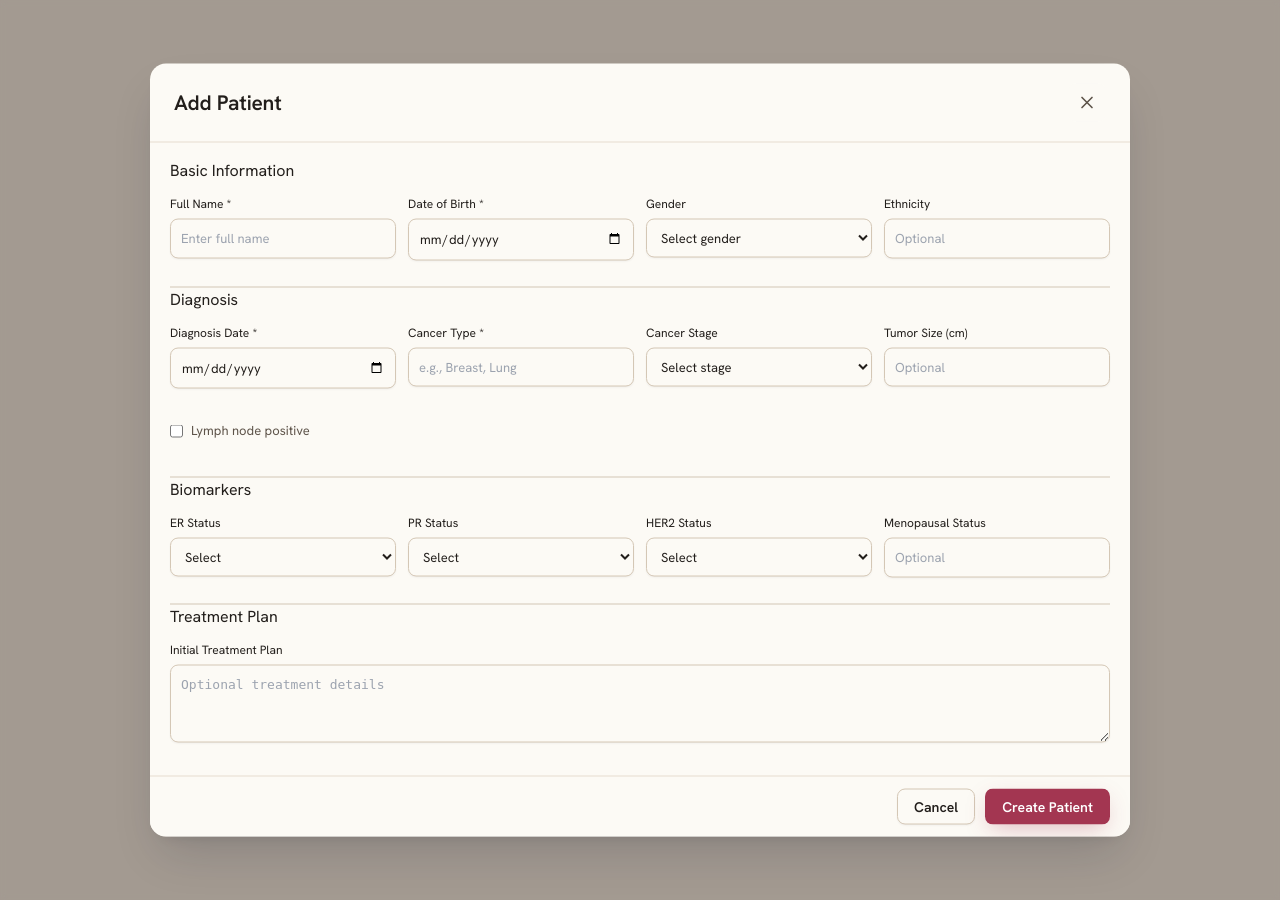
Test: AddPatientDialog › should display error message when submission fails
# Fill required fields
Step 1. Type "John Doe" into the field labelled "Full Name *" → (283, 238), box [170,218,396,258]
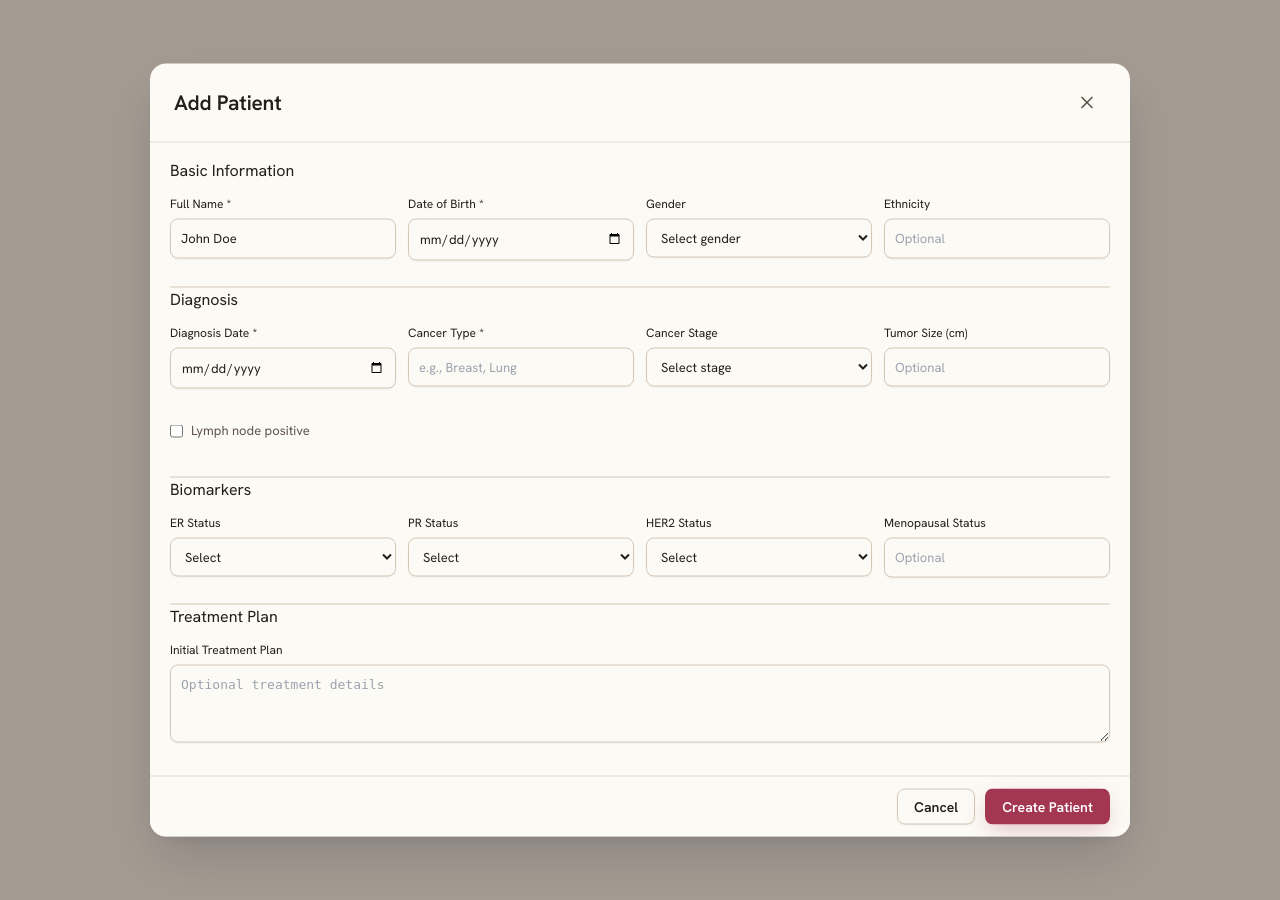
Step 2. Type "1980-01-15" into the date field labelled "Date of Birth *" → (521, 239), box [408,218,634,260]
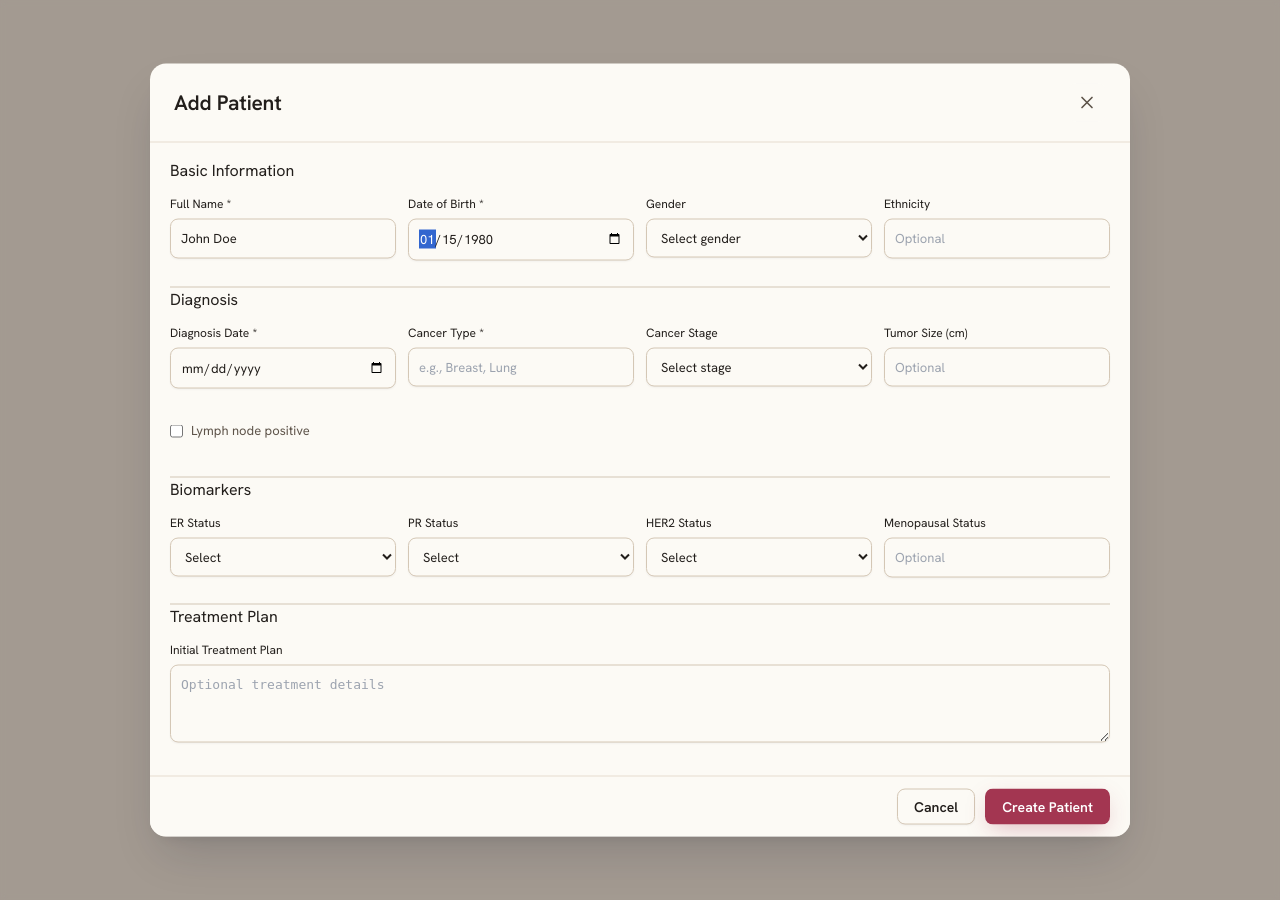
Step 3. Type "2023-01-15" into the date field labelled "Diagnosis Date *" → (283, 368), box [170,347,396,388]
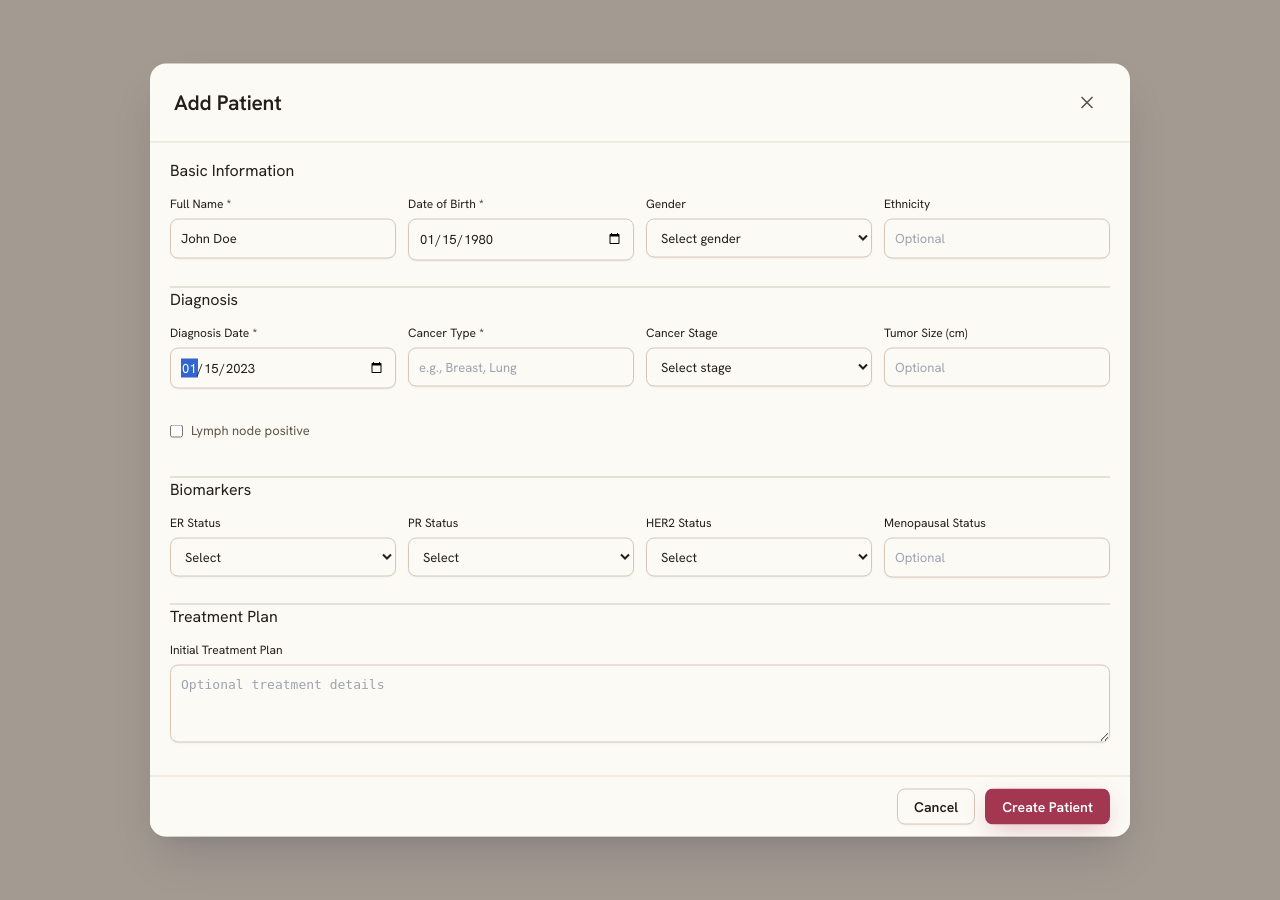
Step 4. Type "Breast" into the field labelled "Cancer Type *" → (521, 367), box [408,347,634,386]
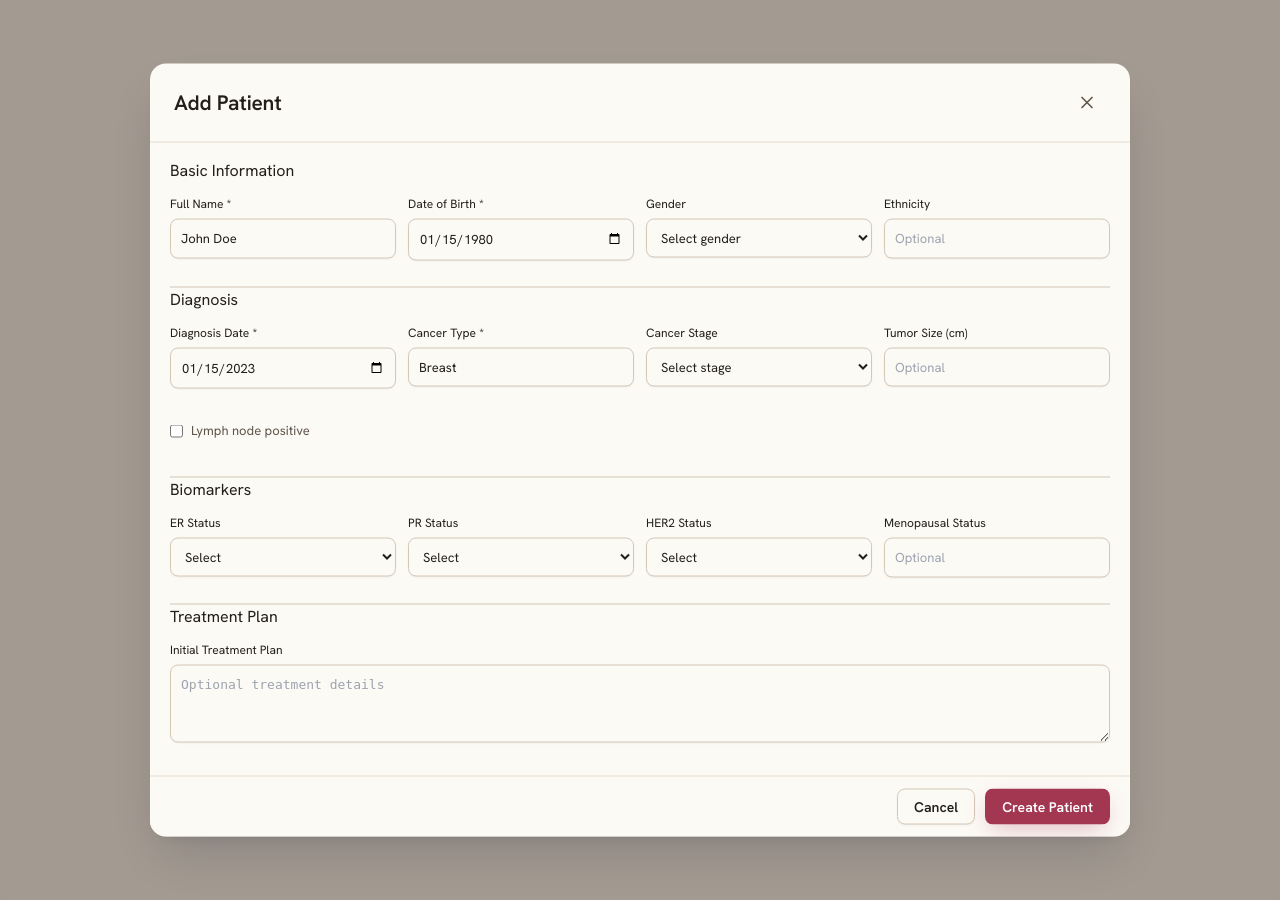
Step 5. Click the button "Create Patient" → click(1048, 806), box [985,788,1110,824]
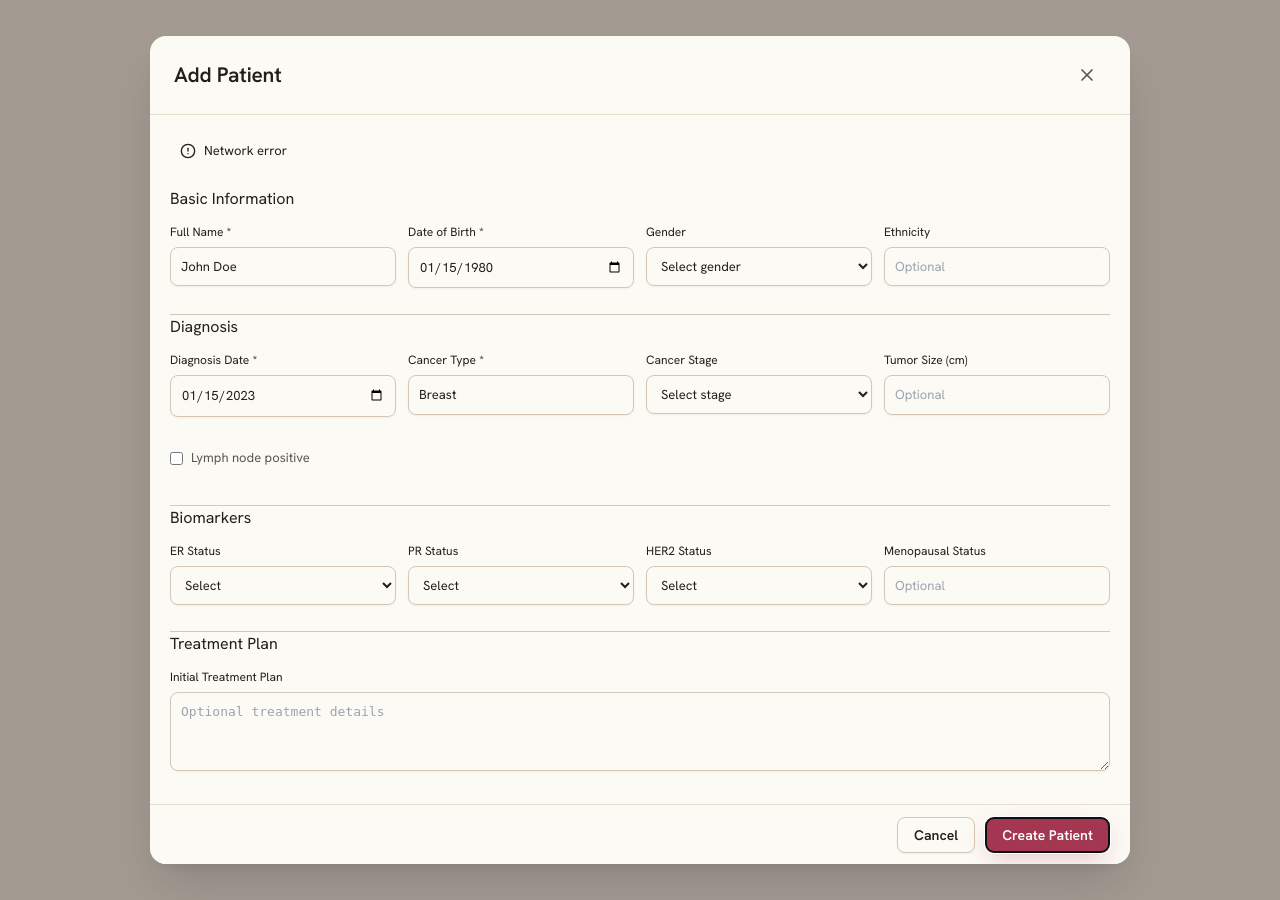
Check: the text "Network error" is shown, box [180,142,287,159]
